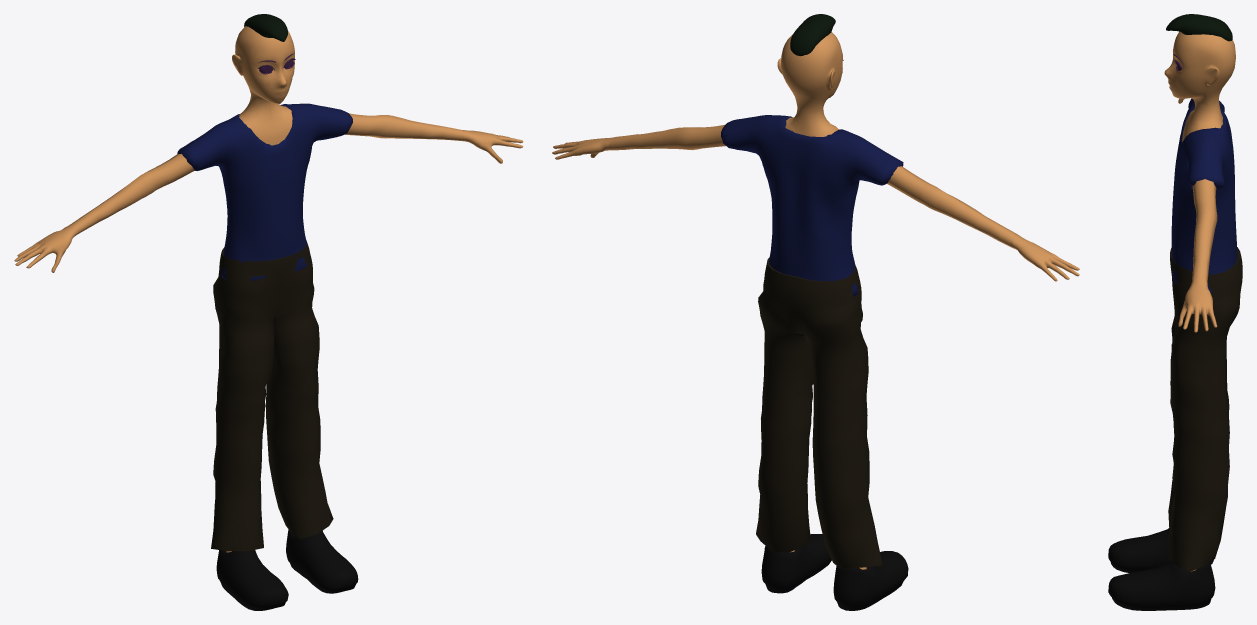
The model's file is CharacterFromObj.fbx.
The picture shows the model from 3 angles, left to right: view 1: azimuth 30°, elevation 25°; view 2: azimuth 150°, elevation 25°; view 3: azimuth 270°, elevation 25°; orthographic projection. The views are drawn at different scales.
Parts seen in each view (by area): view 1: character_model_m_character_model m_pants_01, character_model_m_shirt_01 m_character_model, character_model_m_character_model m_body_01, shoes_01_character_model, character_model_m_character_model m_hair_01; view 2: character_model_m_character_model m_pants_01, character_model_m_shirt_01 m_character_model, character_model_m_character_model m_body_01, shoes_01_character_model, character_model_m_character_model m_hair_01; view 3: character_model_m_character_model m_pants_01, character_model_m_character_model m_body_01, character_model_m_shirt_01 m_character_model, shoes_01_character_model, character_model_m_character_model m_hair_01.
Part boxes in pixels (x1,y1,x2,y2): character_model_m_character_model m_pants_01: (211, 240, 333, 551); character_model_m_shirt_01 m_character_model: (177, 103, 352, 280); character_model_m_character_model m_body_01: (14, 26, 523, 552); shoes_01_character_model: (216, 529, 358, 610); character_model_m_character_model m_hair_01: (244, 14, 287, 41); character_model_m_character_model m_pants_01: (756, 257, 882, 568); character_model_m_shirt_01 m_character_model: (721, 115, 903, 296); character_model_m_character_model m_body_01: (552, 32, 1079, 569); shoes_01_character_model: (761, 534, 908, 610); character_model_m_character_model m_hair_01: (790, 14, 835, 56); character_model_m_character_model m_pants_01: (1168, 247, 1242, 571); character_model_m_character_model m_body_01: (1164, 31, 1235, 571); character_model_m_shirt_01 m_character_model: (1171, 98, 1237, 293); shoes_01_character_model: (1108, 528, 1215, 610); character_model_m_character_model m_hair_01: (1166, 14, 1232, 41).
Size of the model in its own units: 176 by 186 by 39.61.
